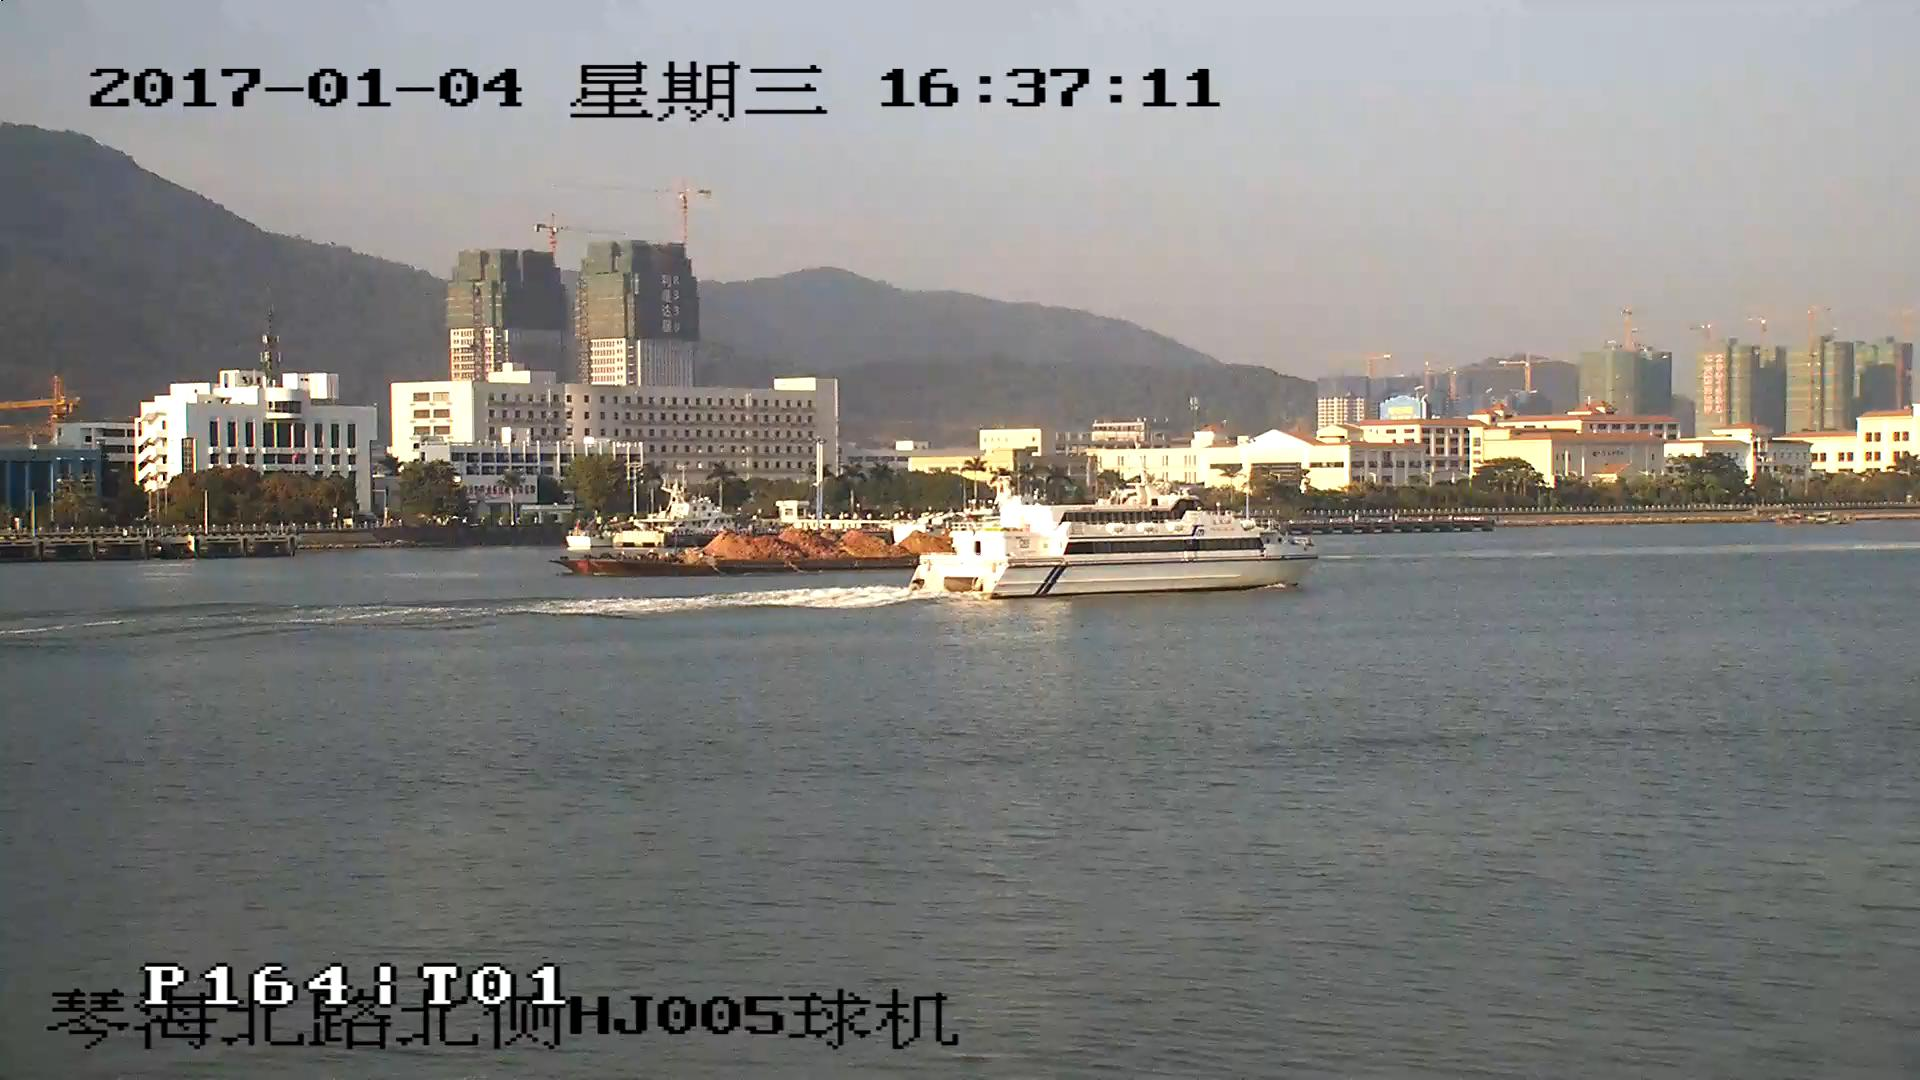ore carrier: (564, 530, 928, 568)
passenger ship: (910, 472, 1322, 594)
